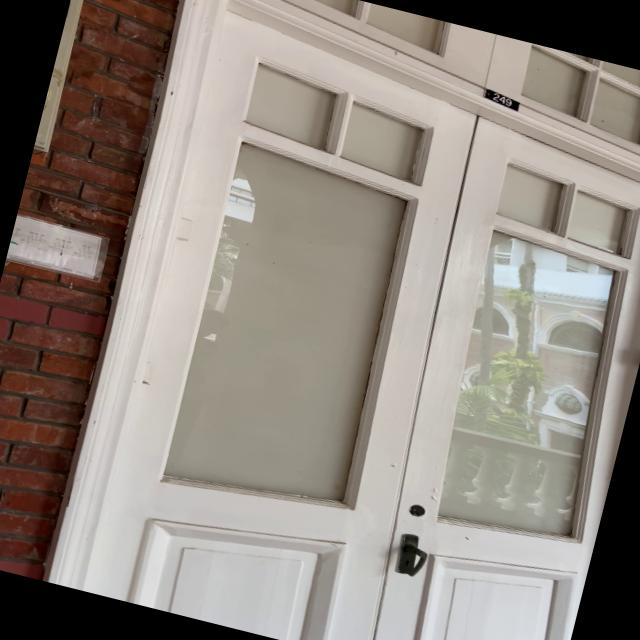room249: (474, 84, 526, 115)
